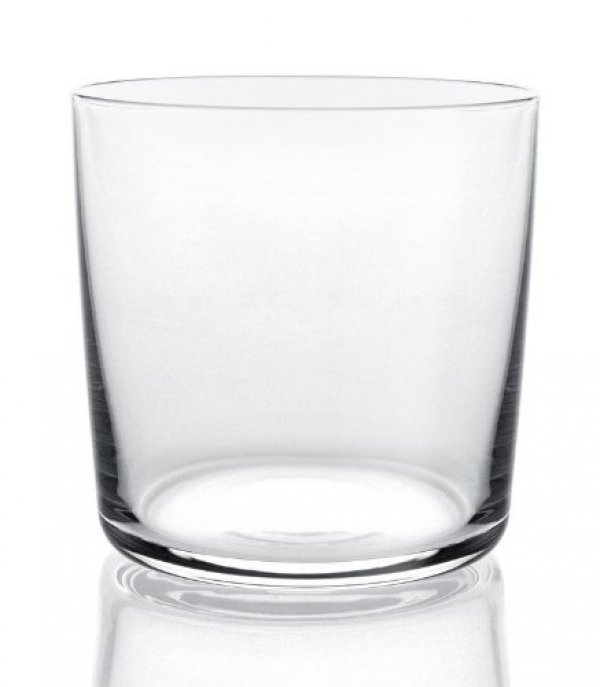glass of water: (68, 72, 524, 583)
